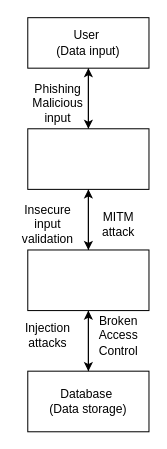
Image size: 167x449. Some labels were removed from this diagram. The shapes that lost their labels are listed below. From the top down, each one's centre as x and y in pixels, then its label:
pixel 88 158: Client Application (Web/Mobile)
pixel 88 280: Application Server (Business Logic)
